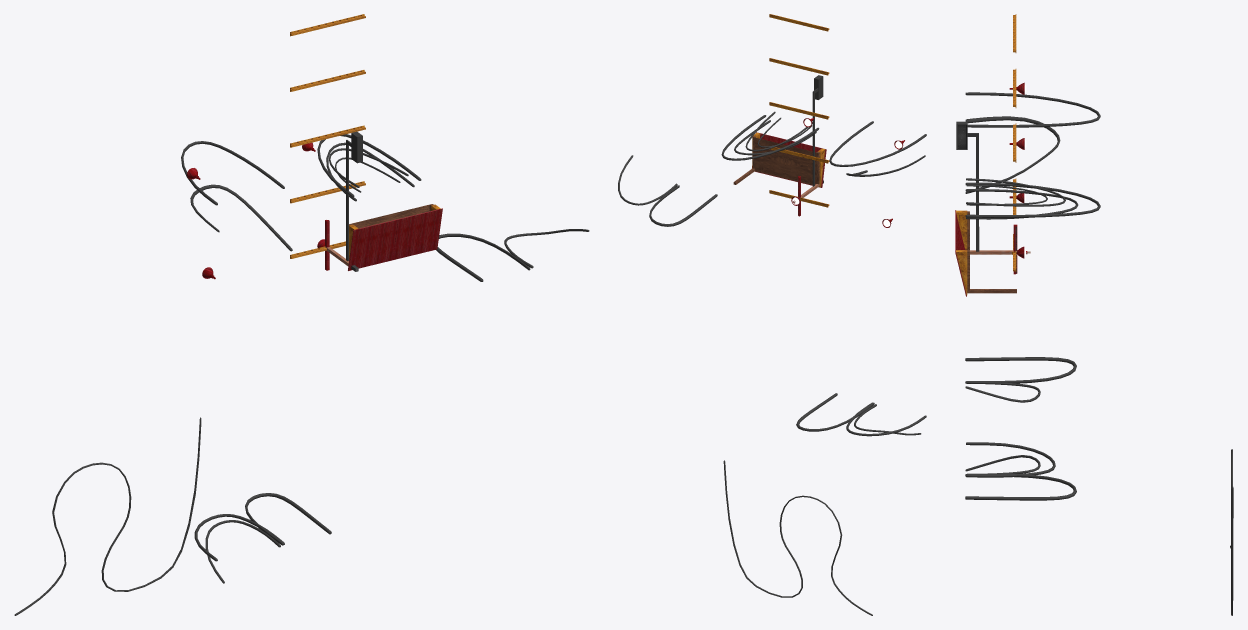
File: car-garage---desert-garage-environment-ef8bb8.glb
The picture shows the model from 3 angles, left to right: view 1: azimuth 30°, elevation 25°; view 2: azimuth 150°, elevation 25°; view 3: azimuth 270°, elevation 25°; orthographic projection. The views are drawn at different scales.
Parts seen in each view (by area): view 1: PropMesh; view 2: PropMesh; view 3: PropMesh.
Boxes of the visible parts, x1,y1,x2,y2 form: PropMesh: (14,14,589,615); PropMesh: (618,14,926,615); PropMesh: (955,14,1233,615).
Bounding box in the file's own units: 1.62 × 2.2 × 0.9006.
Materials: 16 (14 with a texture image).
